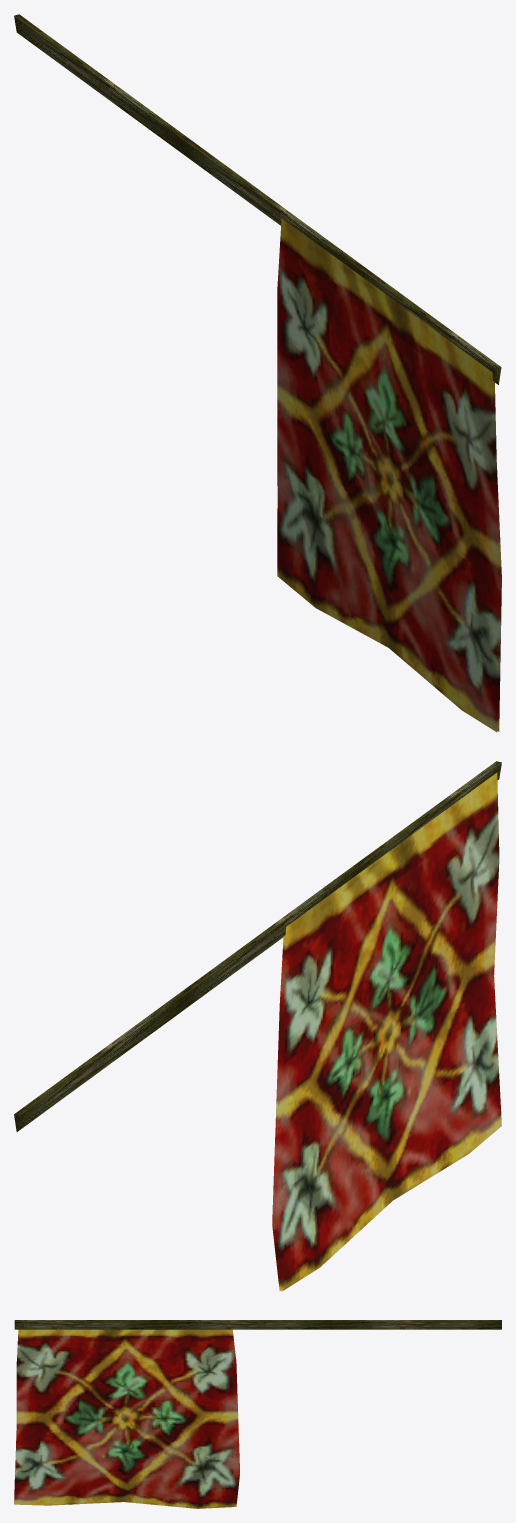
The picture shows the model from 3 angles, top to bottom: view 1: azimuth 30°, elevation 25°; view 2: azimuth 150°, elevation 25°; view 3: azimuth 270°, elevation 25°; orthographic projection. The views are drawn at different scales.
Parts seen in each view (by area): view 1: TN2_F8-col; view 2: TN2_F8-col; view 3: TN2_F8-col.
Part boxes in pixels (x1,y1,x2,y2): TN2_F8-col: [14, 14, 501, 732]; TN2_F8-col: [14, 761, 501, 1291]; TN2_F8-col: [14, 1320, 501, 1508].
Size of the model in its own units: 0.0377 by 1.38 by 3.23.
2 materials, 2 textured.
